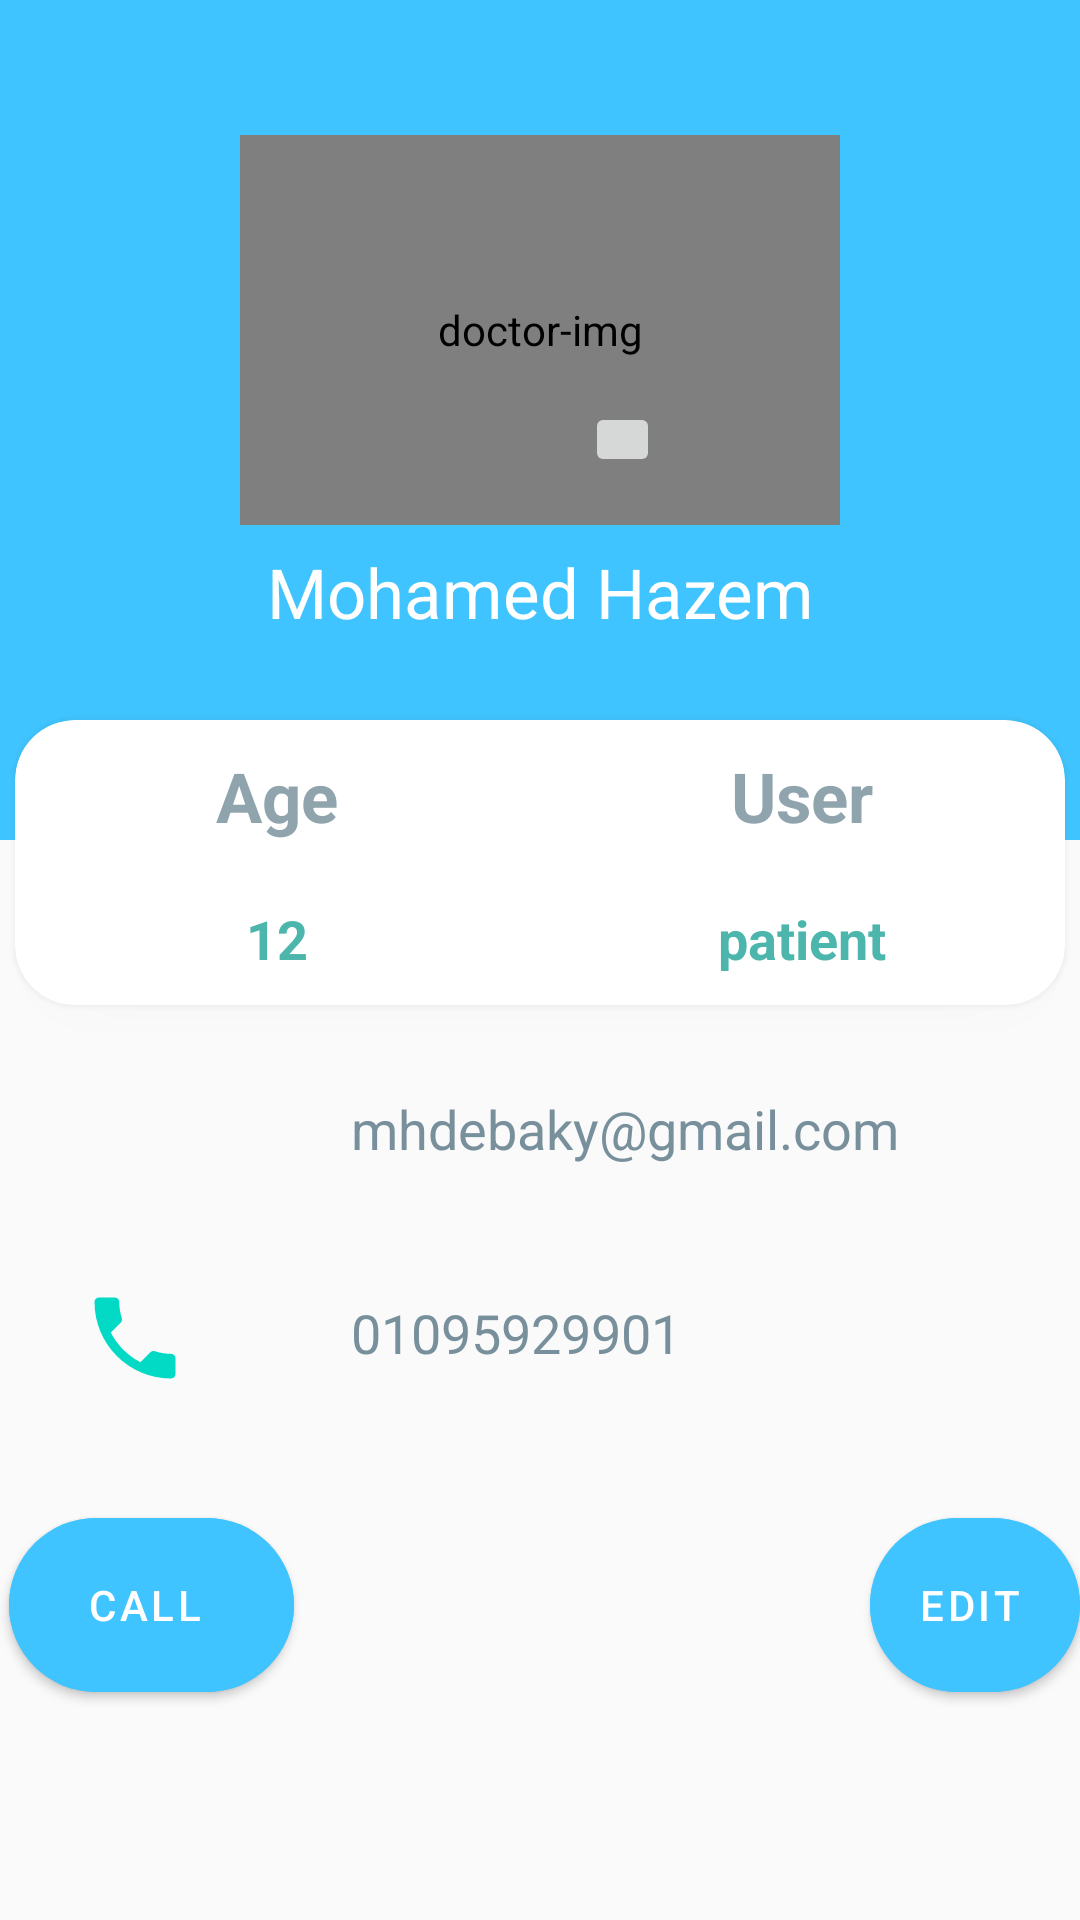

Screen size 1080x1920. Icon name, then its center in pixels as (x,y):
phone: (135,1338)
